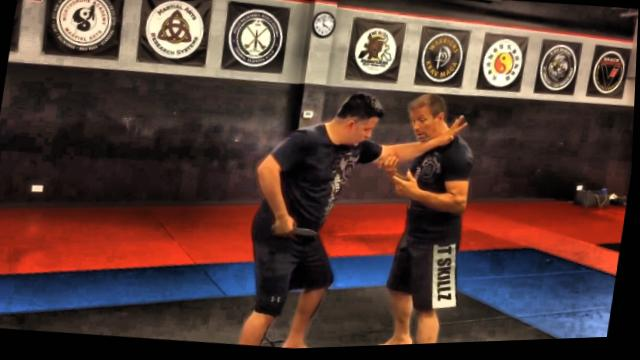knife: (270, 220, 324, 244)
